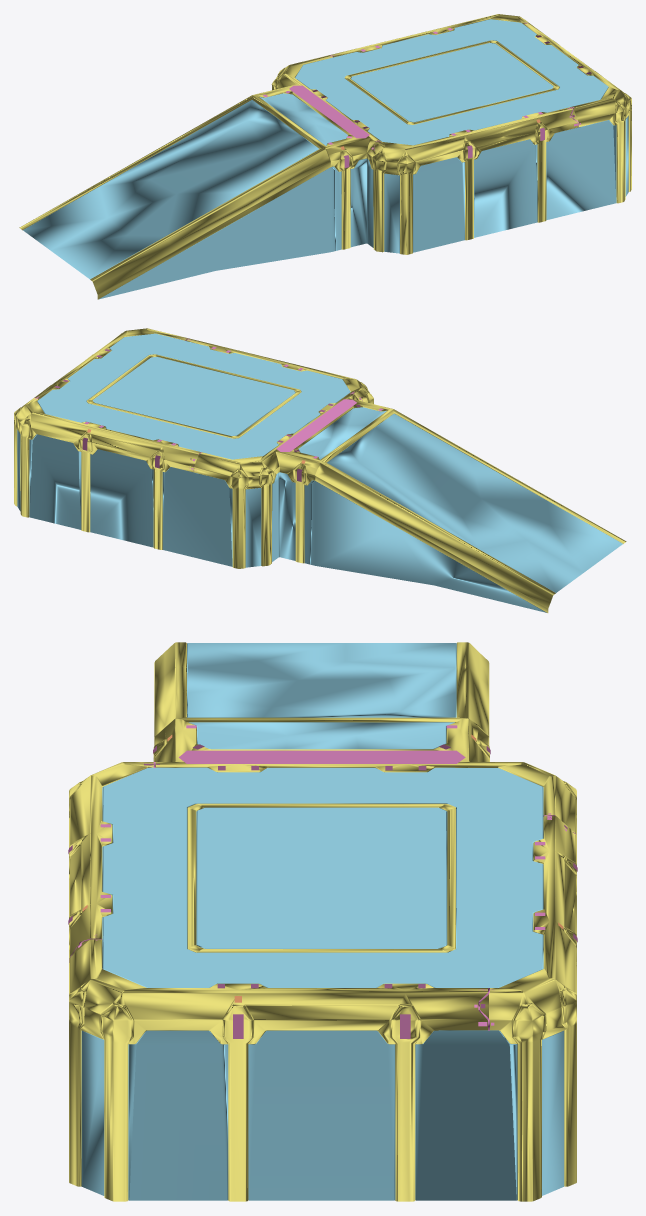
File: concreteslab_vehiclepad_12x08x01_a.glb
3 views of the same model, one above another, from view 1: azimuth 30°, elevation 25°; view 2: azimuth 150°, elevation 25°; view 3: azimuth 270°, elevation 25° (orthographic). The views are drawn at different scales.
Size of the model in its own units: 28.94 by 5.28 by 12.18.
